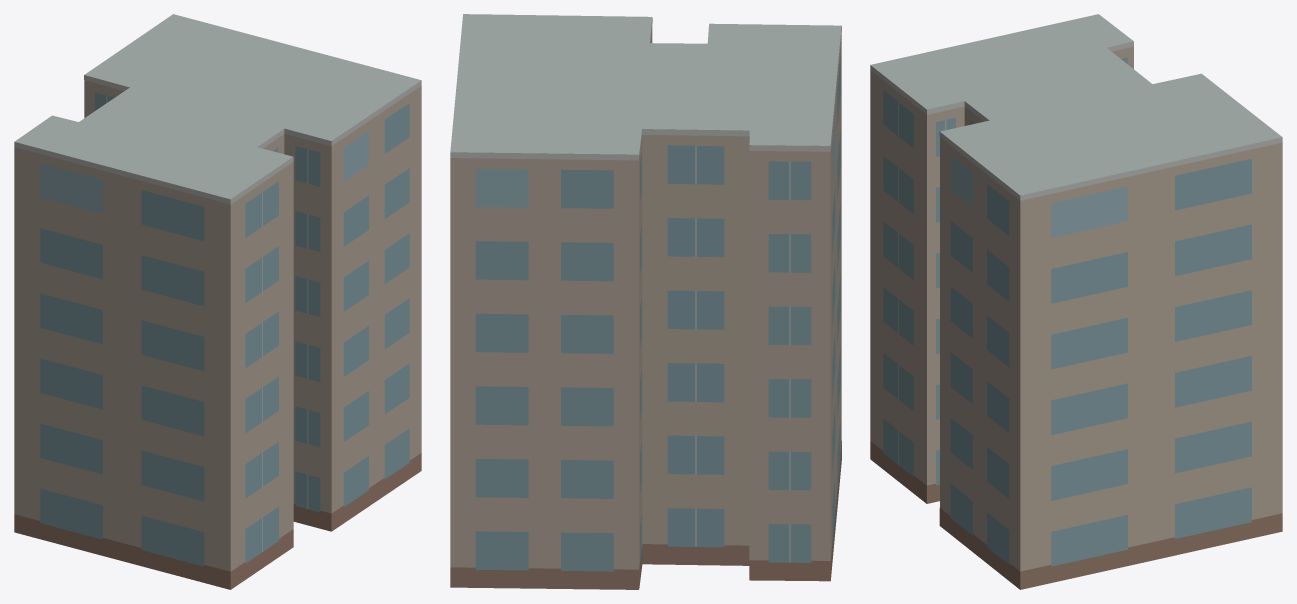
The model's file is survey-upis-32584058.glb.
3 renders of one model, left to right at view 1: azimuth 30°, elevation 25°; view 2: azimuth 150°, elevation 25°; view 3: azimuth 270°, elevation 25°, orthographic. The views are drawn at different scales.
Parts seen in each view (by area): view 1: survey-upis-32584058.tmp; view 2: survey-upis-32584058.tmp; view 3: survey-upis-32584058.tmp.
Boxes of the visible parts, box(x1,y1,x2,y2) form: survey-upis-32584058.tmp: box(14, 14, 421, 589); survey-upis-32584058.tmp: box(450, 14, 841, 589); survey-upis-32584058.tmp: box(870, 14, 1282, 589).
Size of the model in its own units: 18.08 by 18.3 by 17.36.
